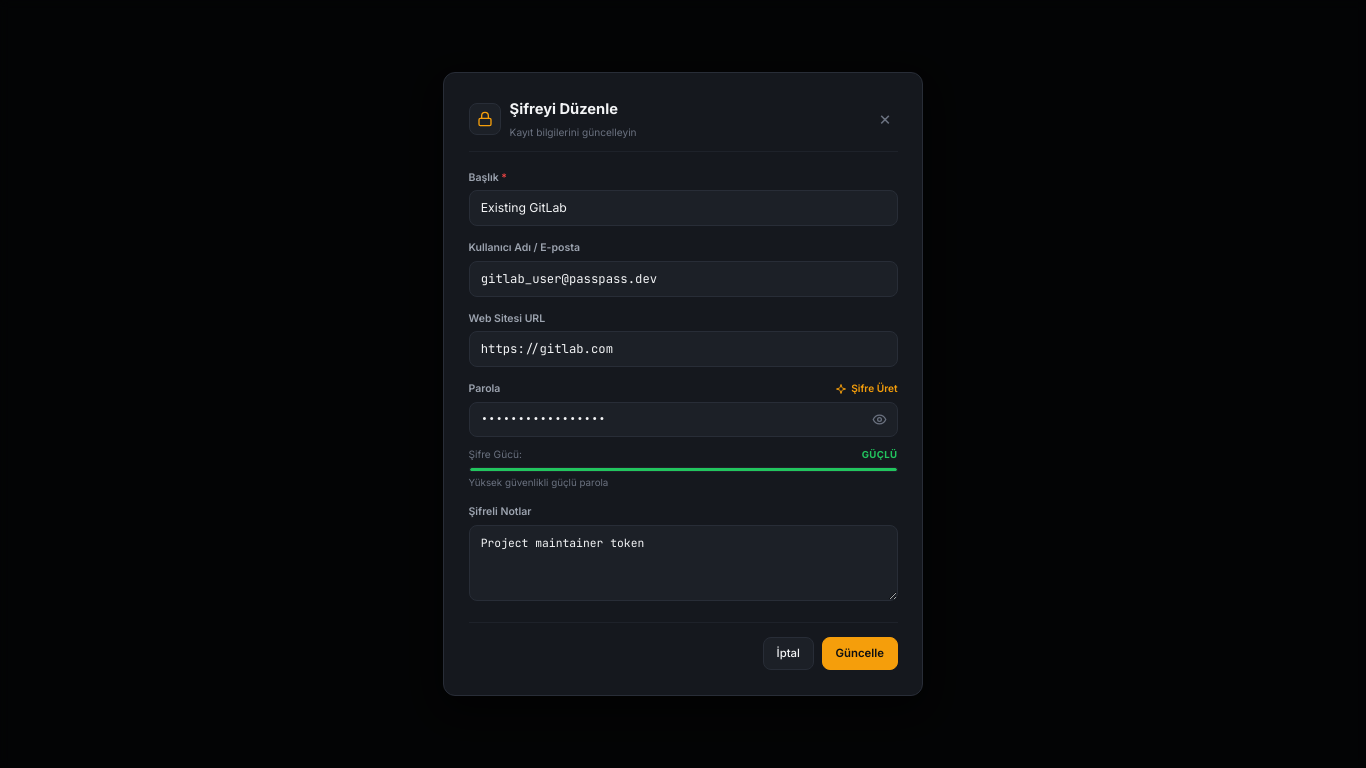
it: PasswordFormModal Component › toggles password visibility between masked and plain text
Click the button named "şifreyi göster" at {"x": 880, "y": 420}, box [868,408,890,430]
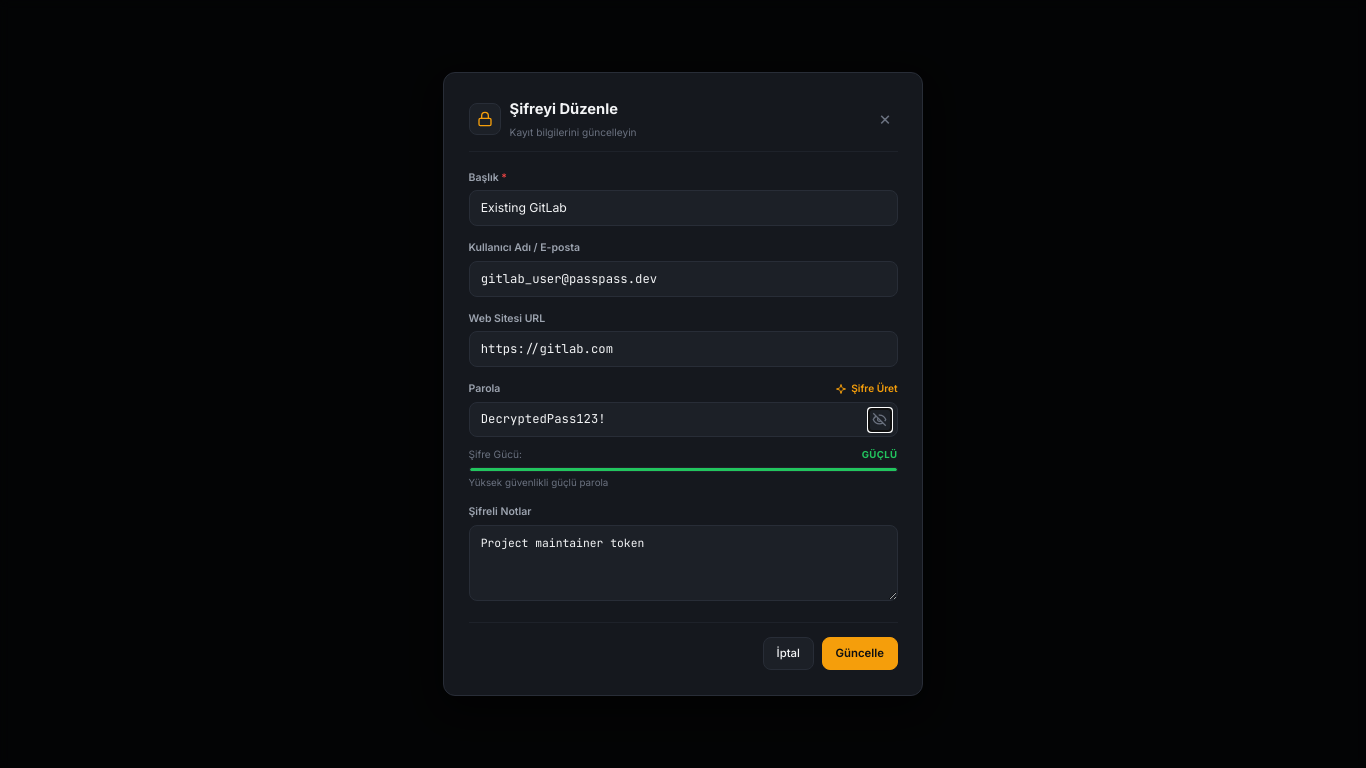
Check: the field labelled "Parola" shows its text, box [468,402,898,438]
Click the button named "şifreyi gizle" at {"x": 880, "y": 420}, box [868,408,890,430]
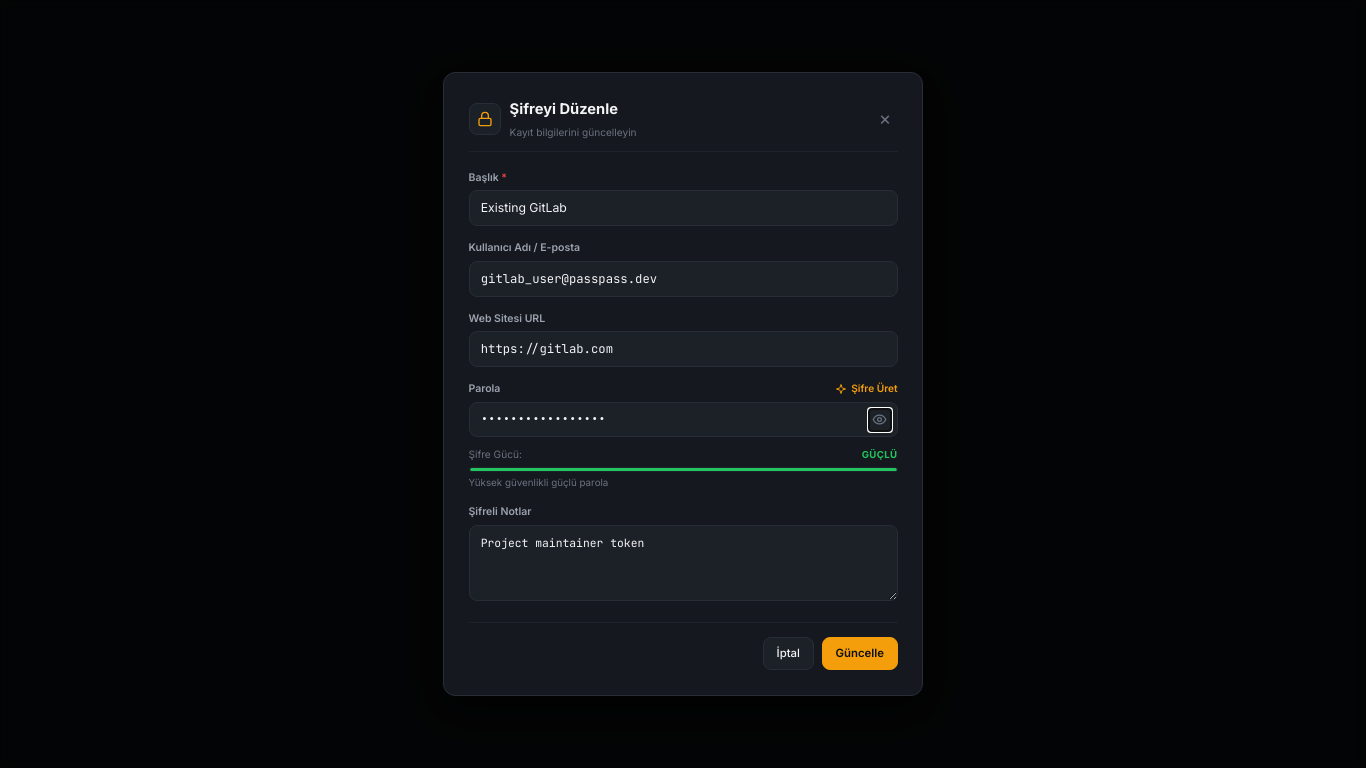
Check: the password field labelled "Parola" hides its text, box [468,402,898,438]
